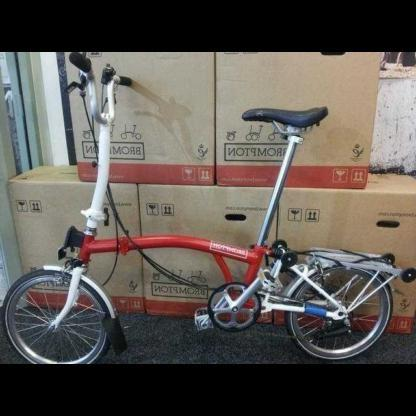Bicycle: (0, 53, 413, 368)
